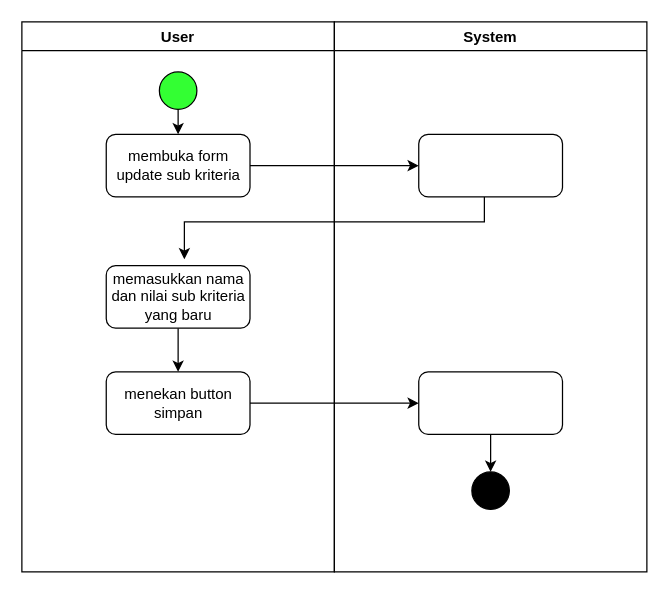
This 669x594 diagram has some shape labels left out. Here are the shapes that lost their labels. From the top down, the box of each, then its label:
(418, 133, 562, 197): menampilkan form update sub kriteria
(418, 371, 562, 434): menyimpan pada database
